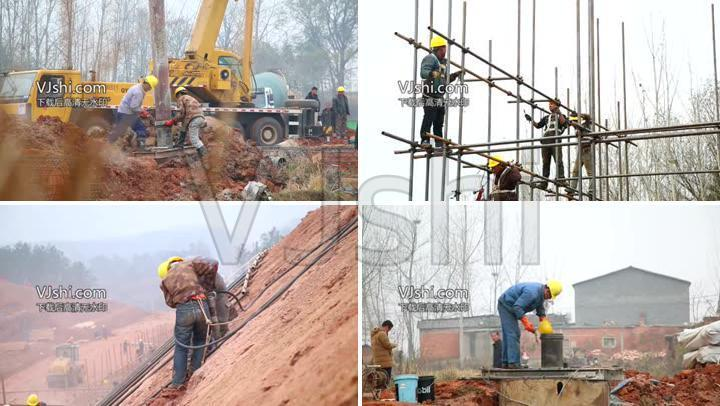helmet: (155, 250, 185, 279), (547, 279, 567, 299), (173, 84, 194, 101), (485, 156, 504, 171), (432, 36, 450, 49), (146, 76, 161, 89), (336, 87, 346, 95)
